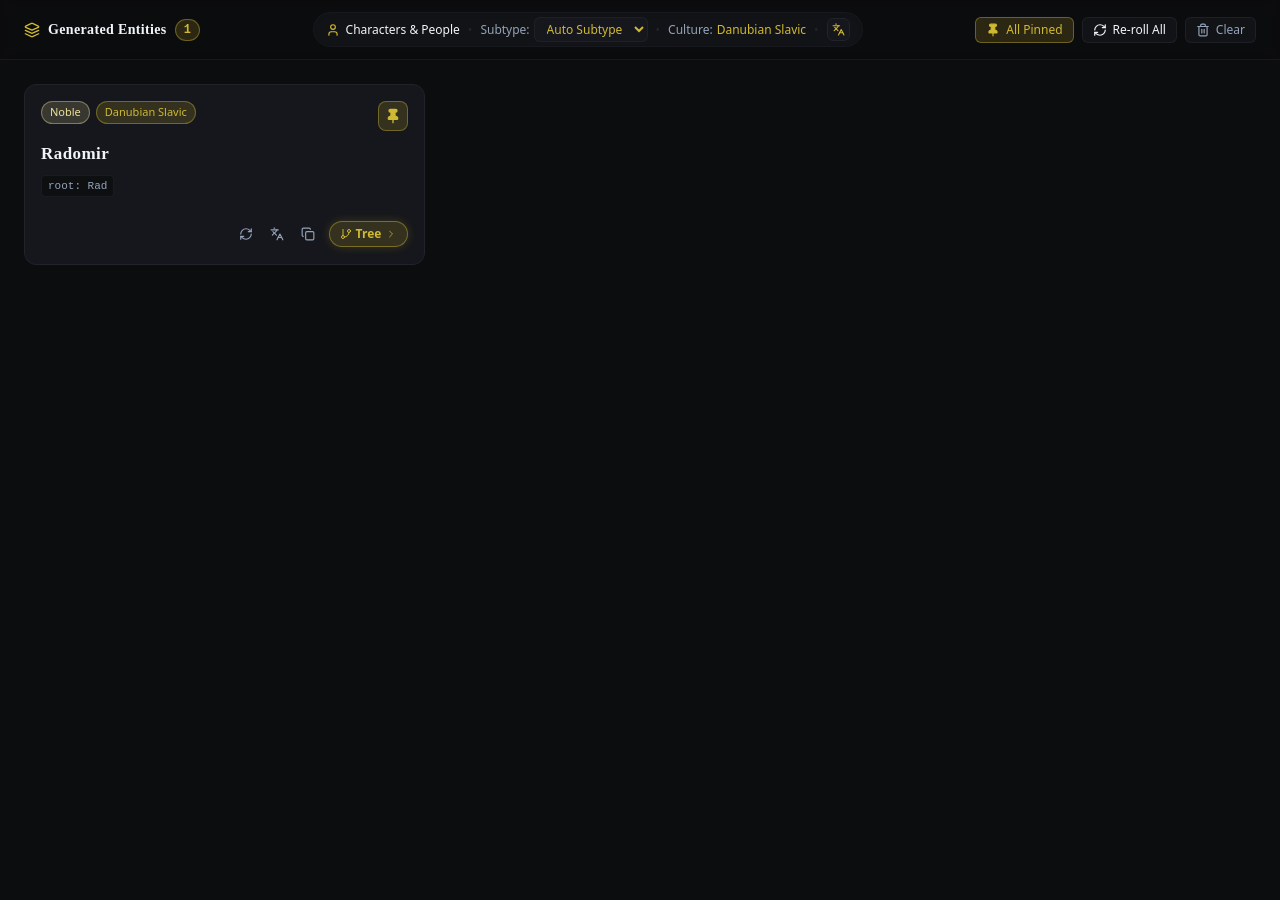
Scenario: accessible modal lifecycle › anglicization options use the same keyboard lifecycle and outside dismissal
The image size is (1280, 900).
Click the button named "Anglicization Options". click: click(838, 30)
box: 827,18 -> 850,41
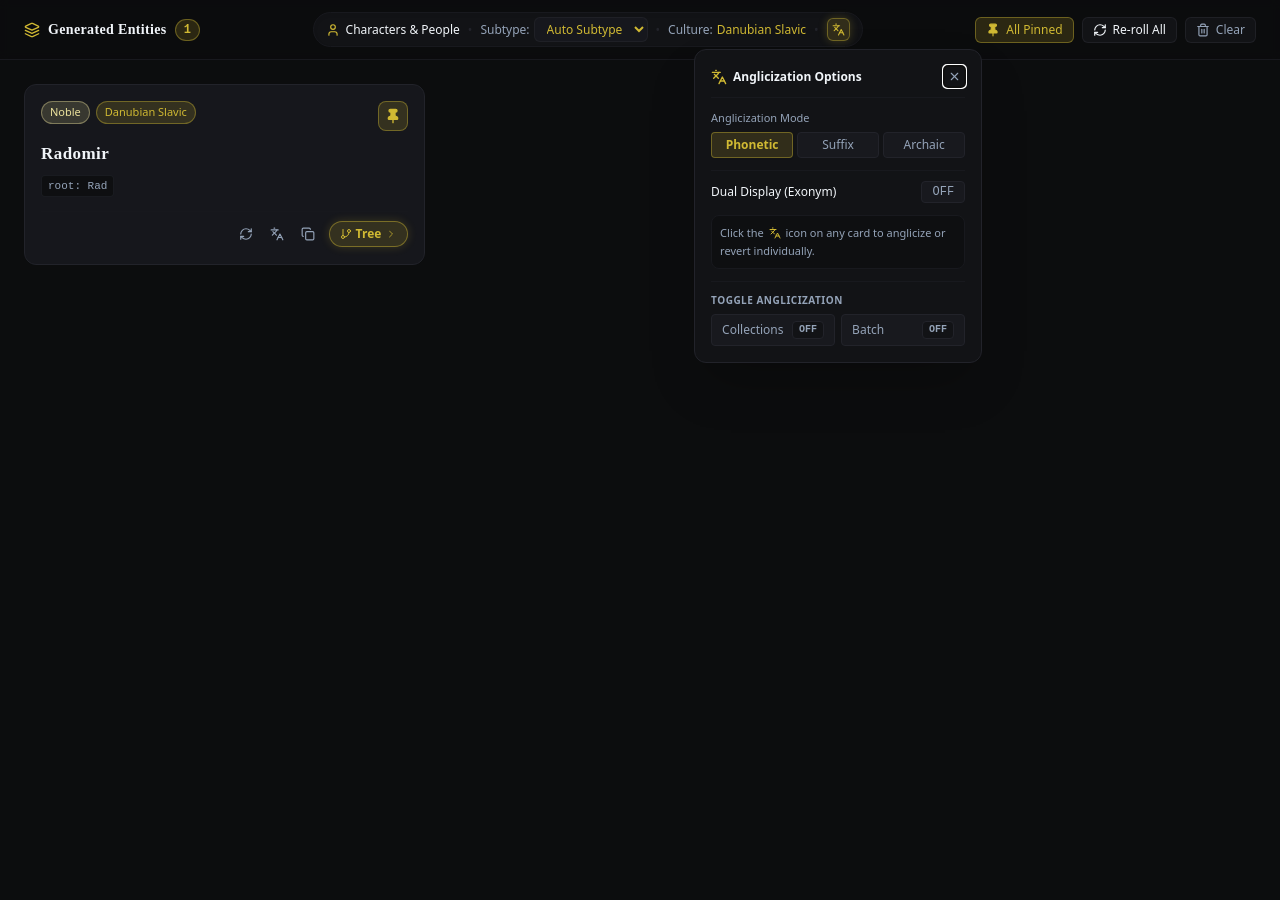
Press Shift+Tab
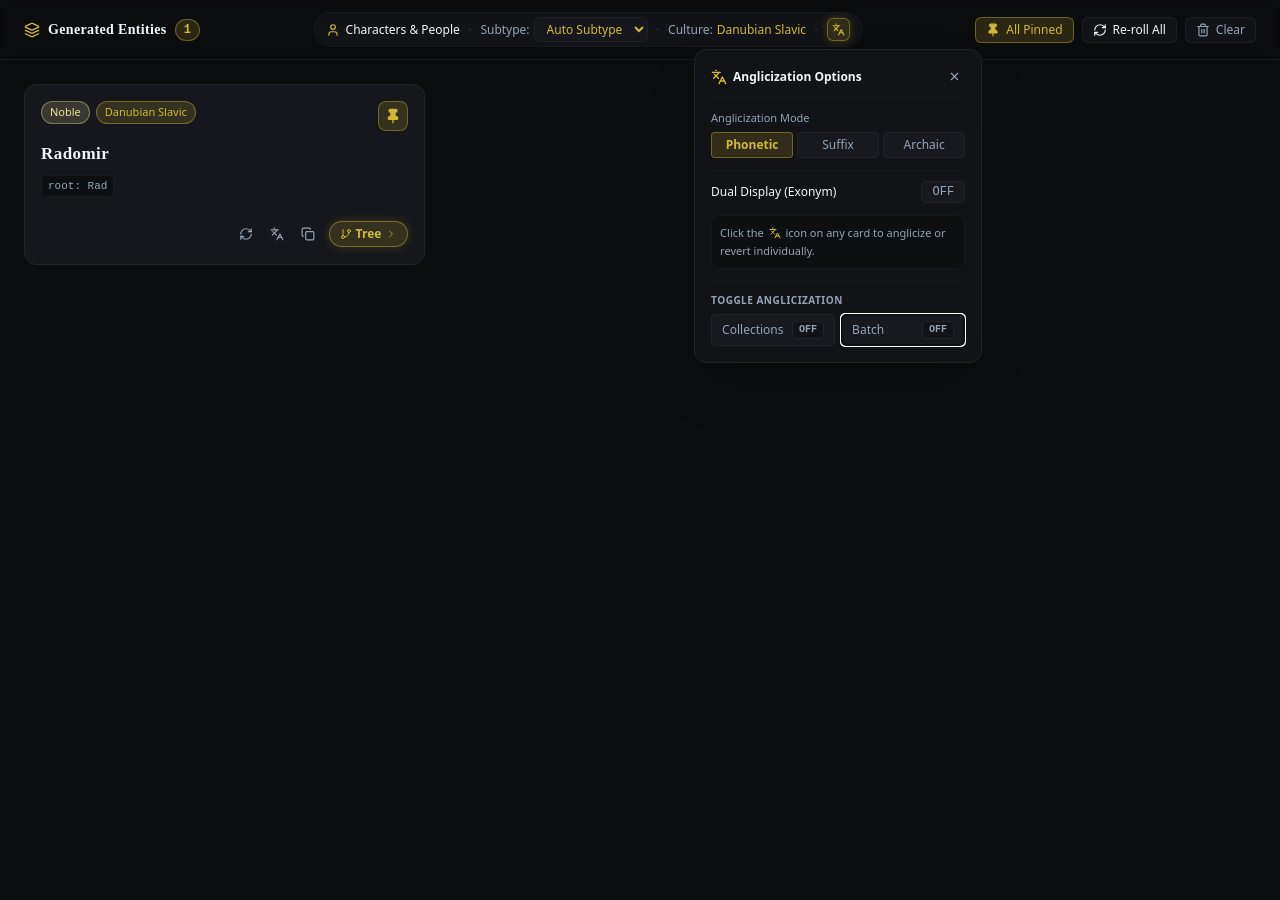
Press Tab
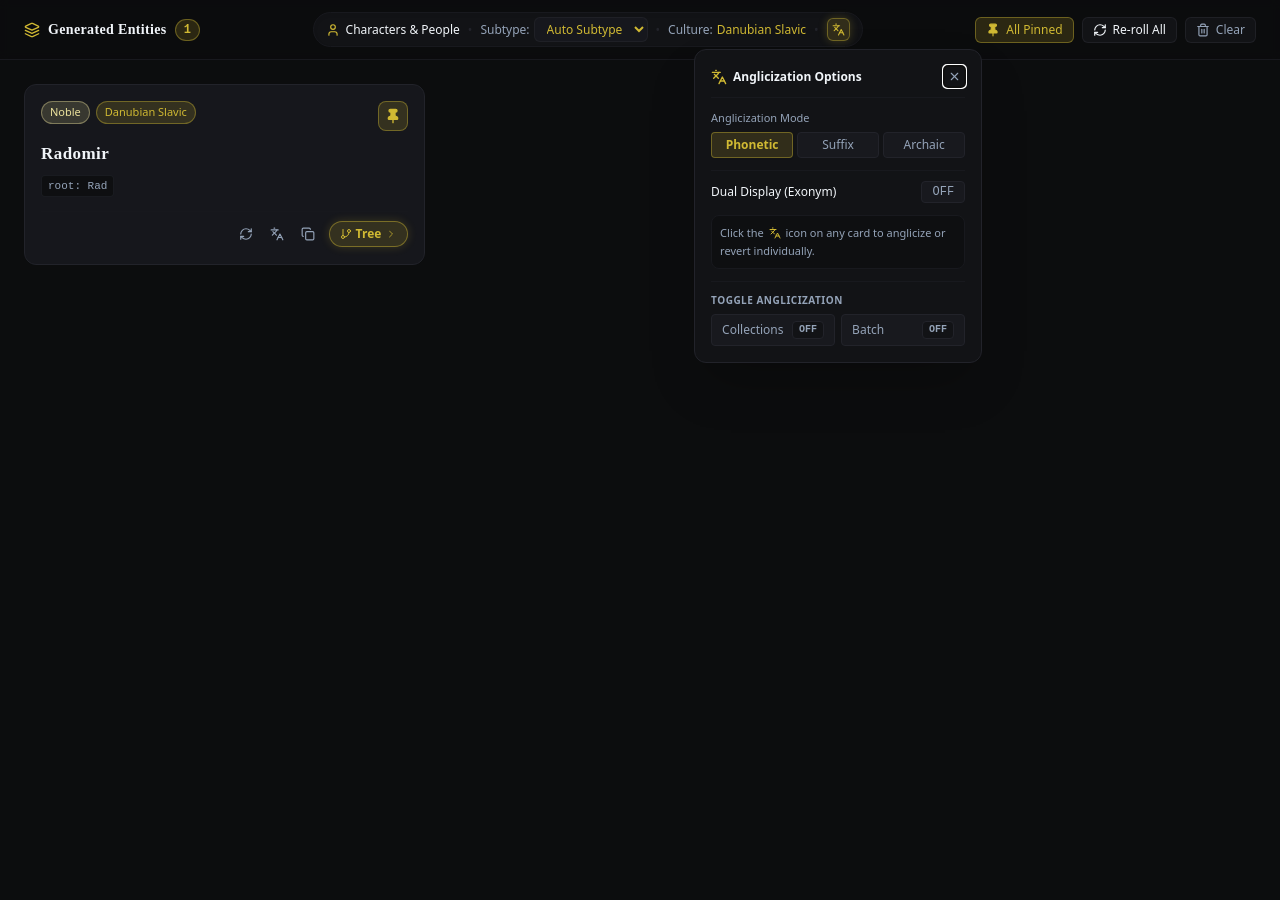
Press Escape
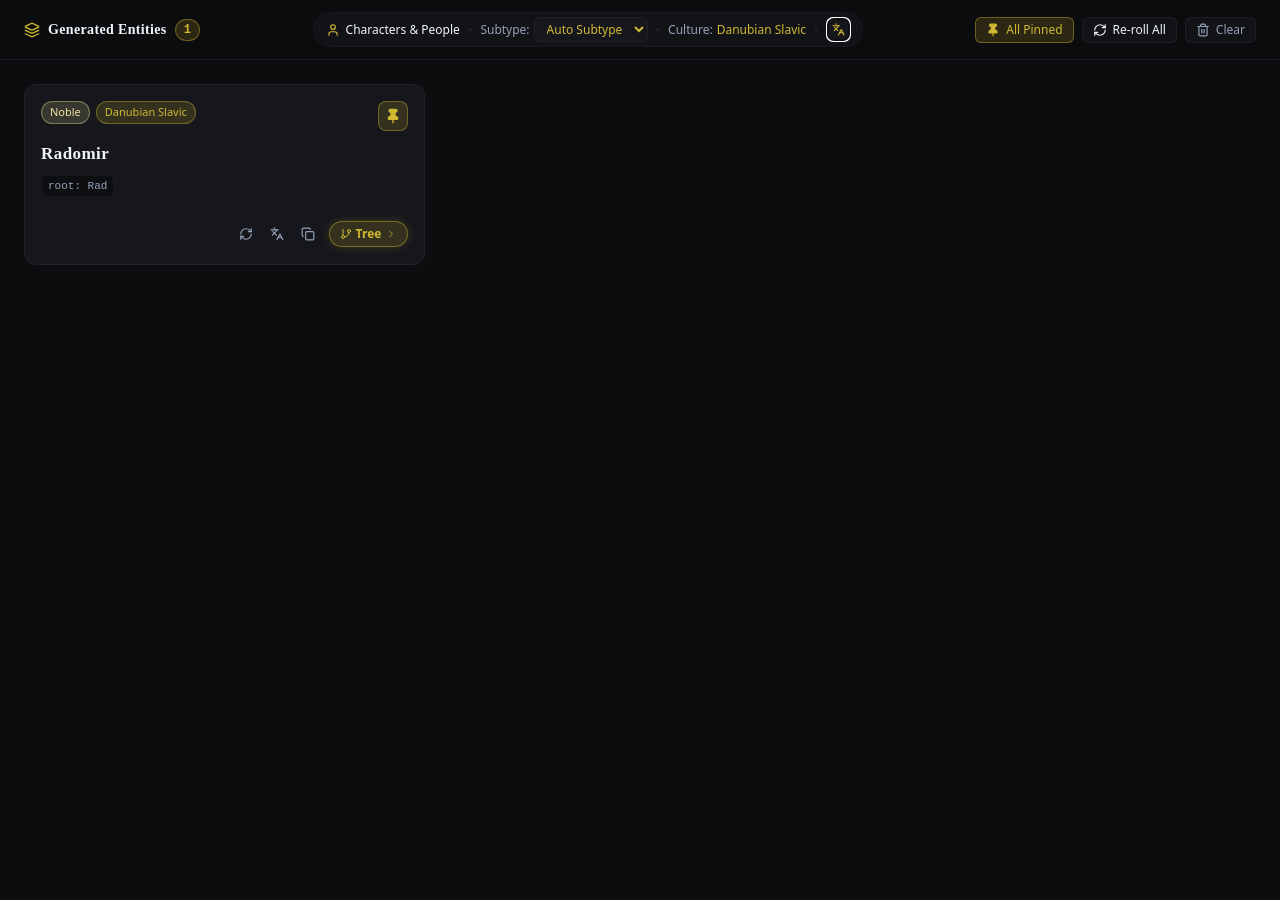
Click the button named "Anglicization Options". click: click(838, 30)
box: 827,18 -> 850,41
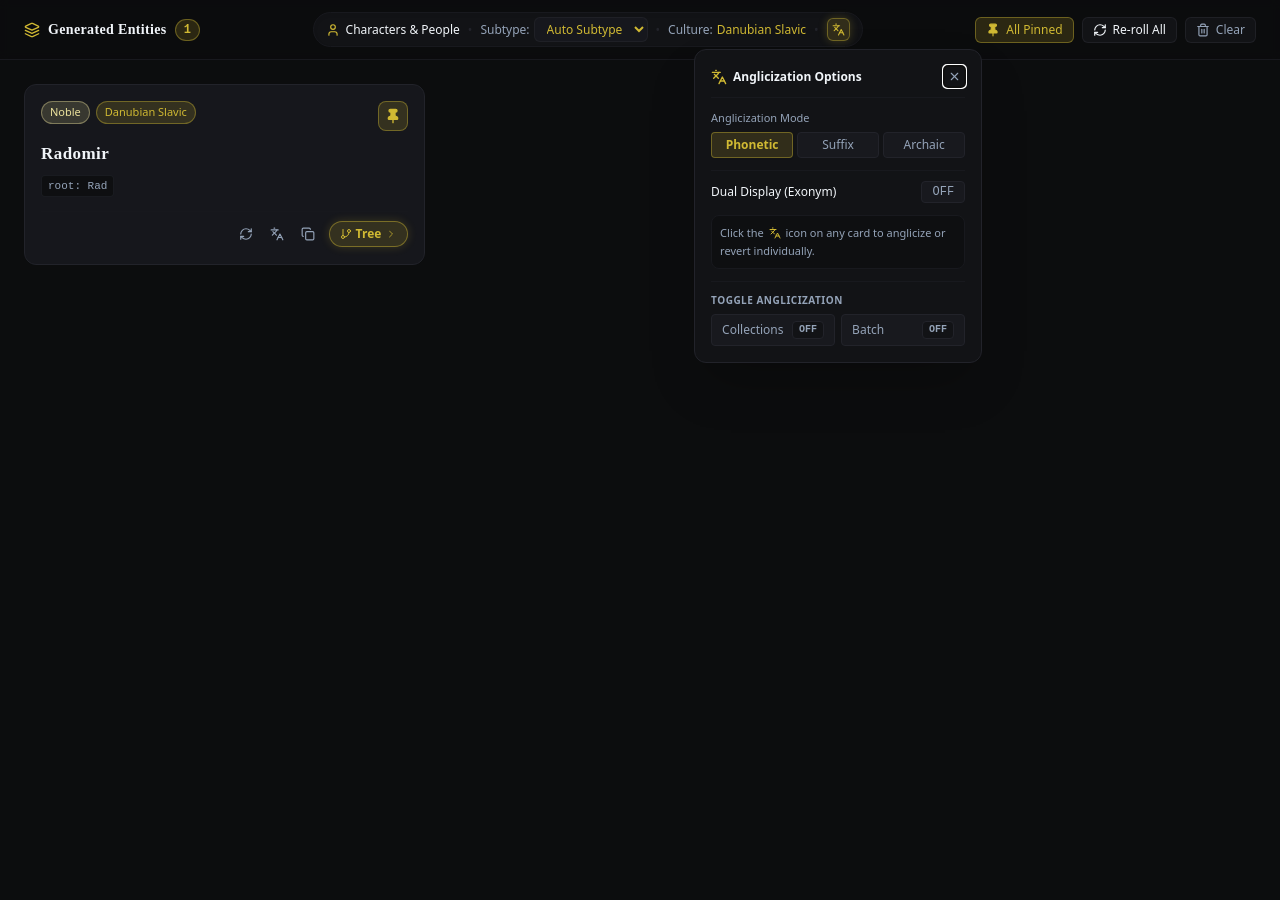
Click the element that starts with "Generated Entities". click: click(640, 450)
box: 0,0 -> 1279,899
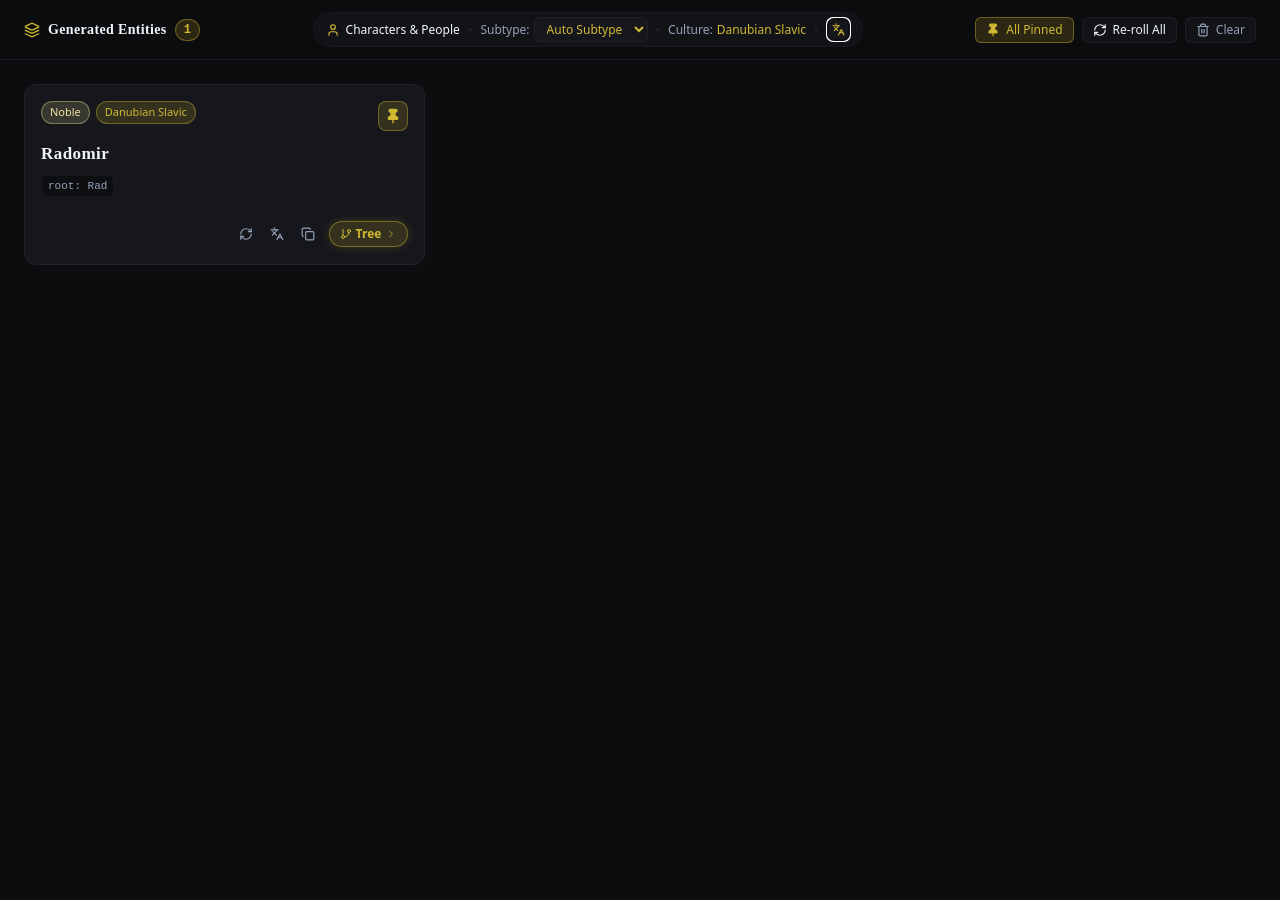
Expected: the dialog is gone
